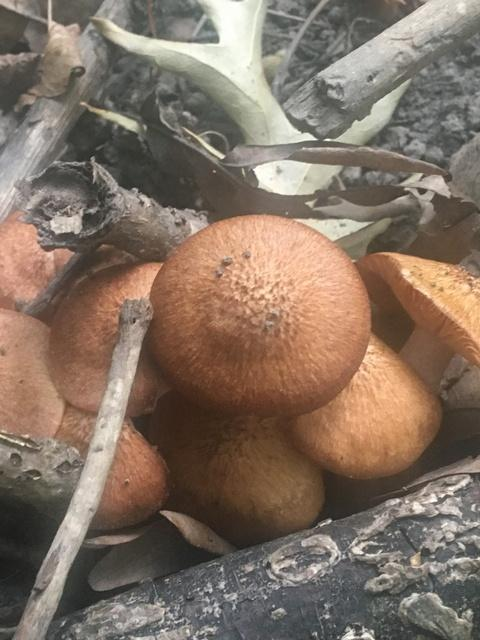edible_mushroom: (3, 214, 480, 521)
